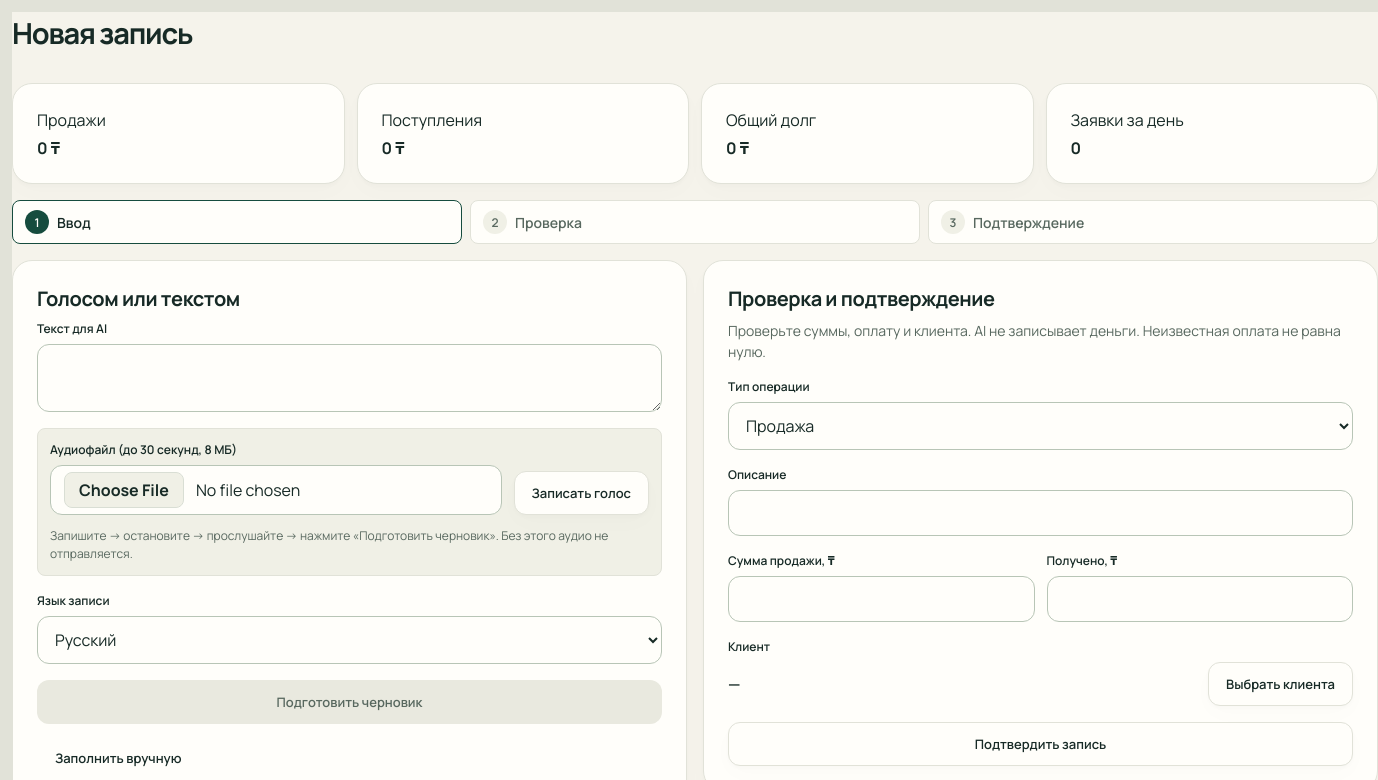
Scenario: voice form with stub provider responses › keeps text and manual inputs after timeout
Type "manual retained" into the field labelled "Описание". click: [1040, 513]
box: [728,490,1353,536]
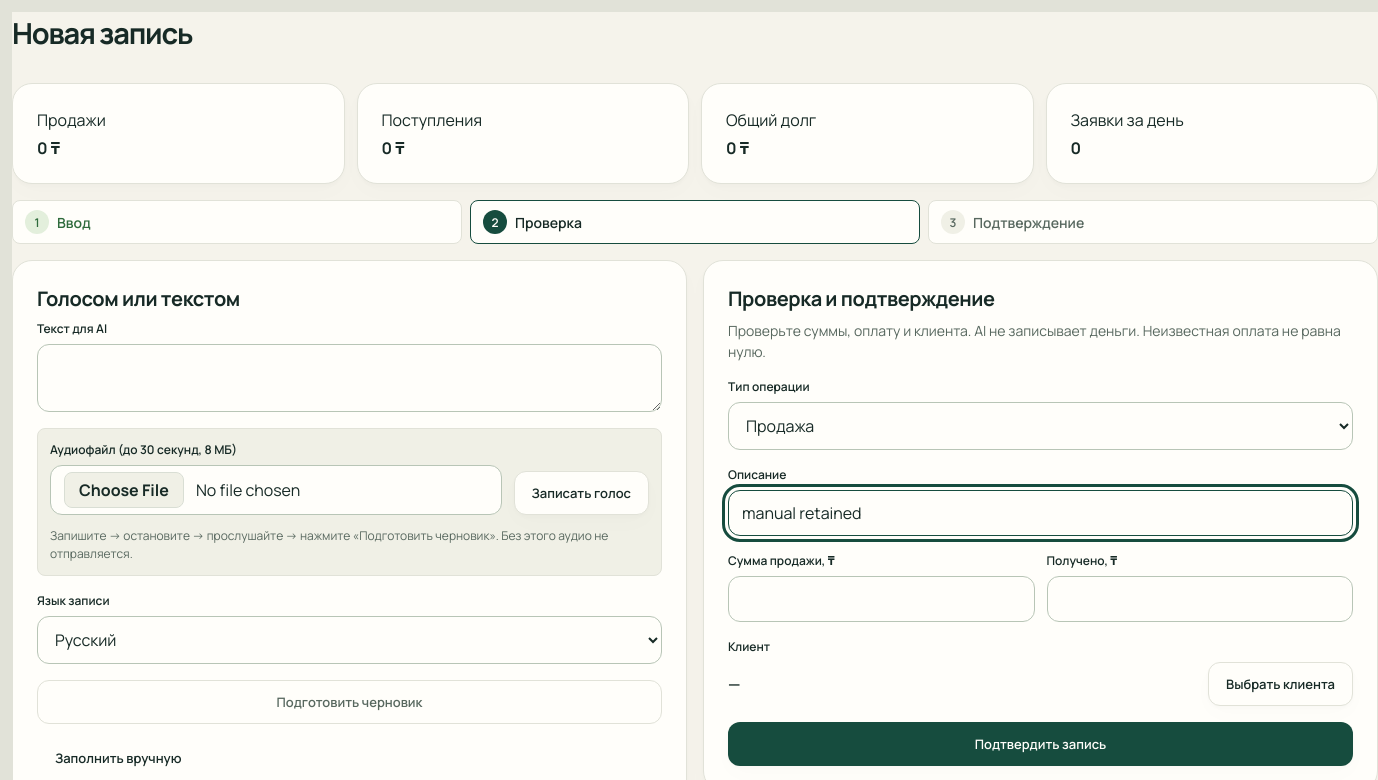
Type "unknown payment" into the text box labelled "Текст для AI". click: [350, 378]
box: [37,344,662,412]
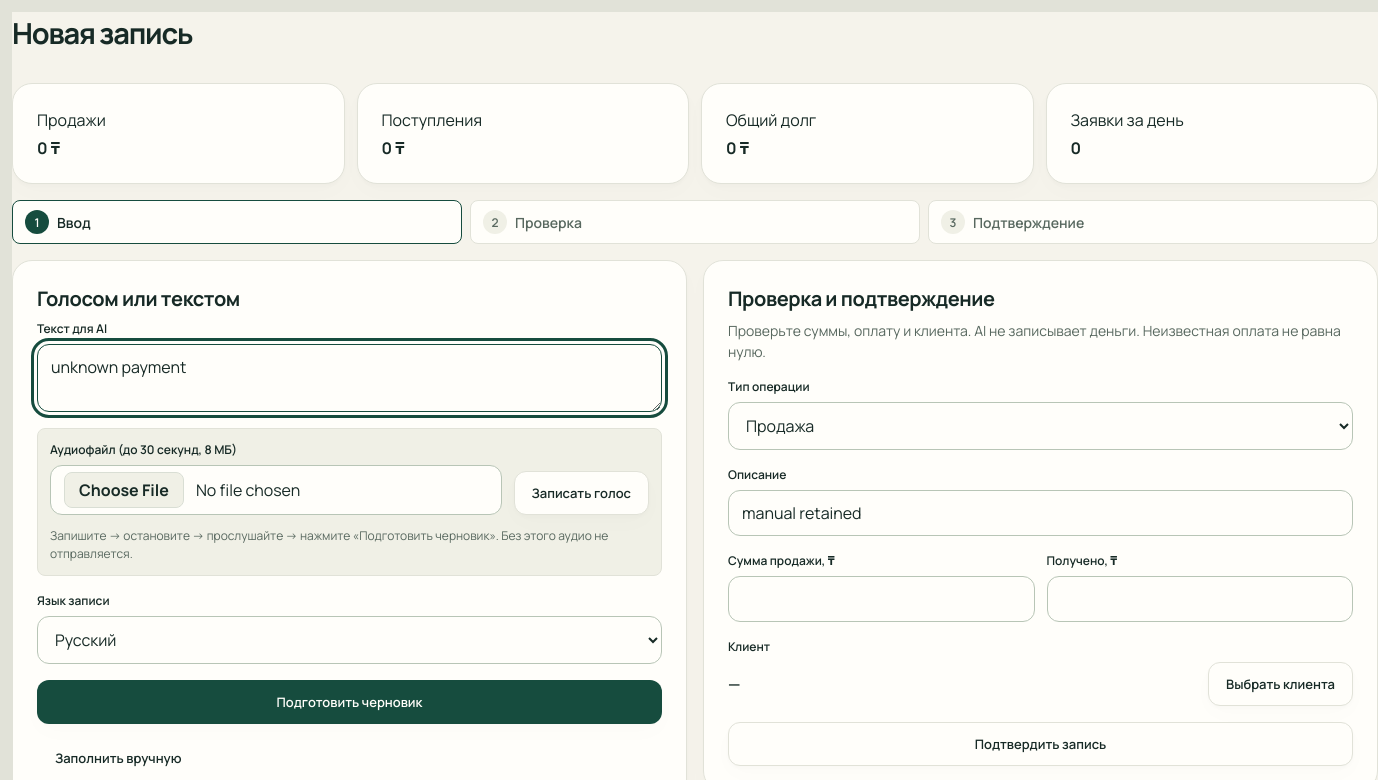
Click the button "Подготовить черновик". click: [350, 702]
box: [37,680,662,724]
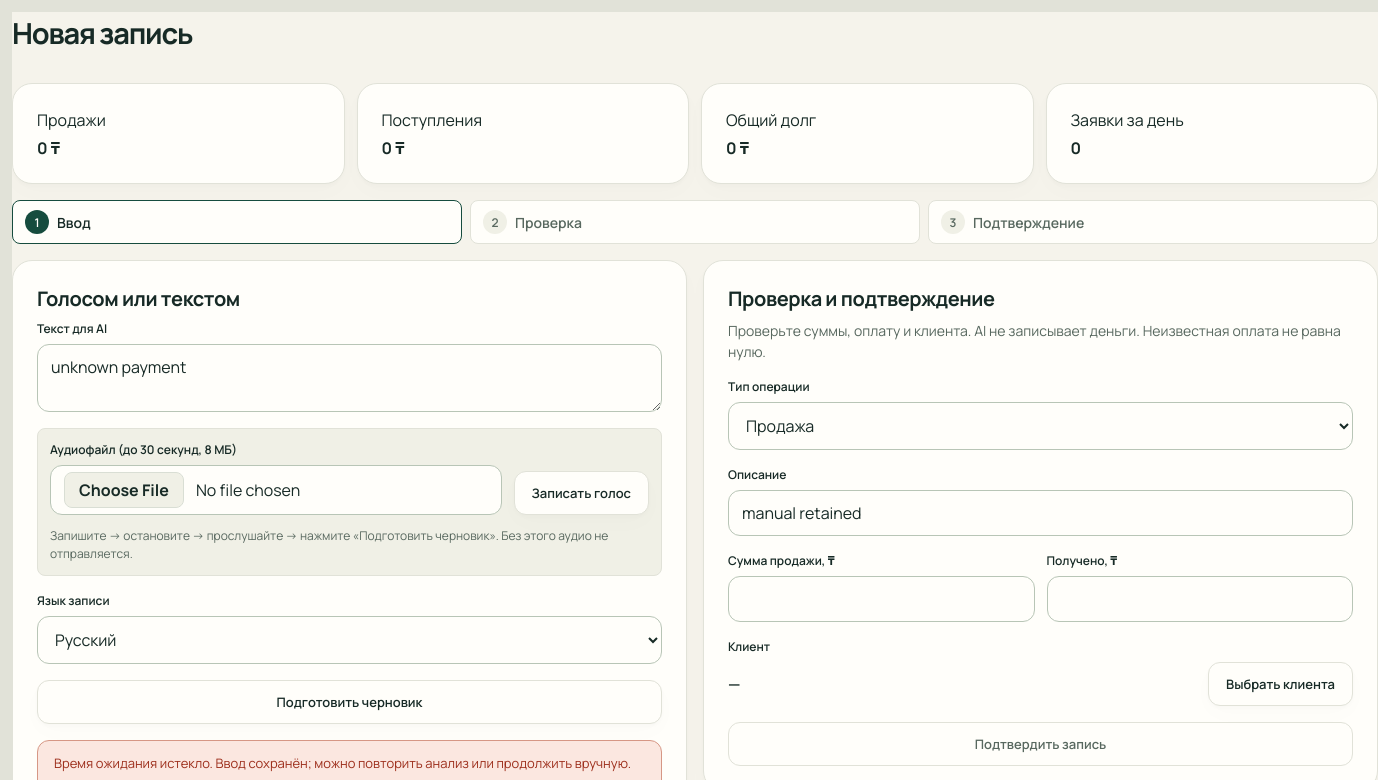
Now the message shows "Ввод сохранён", box [54,754,631,772]
